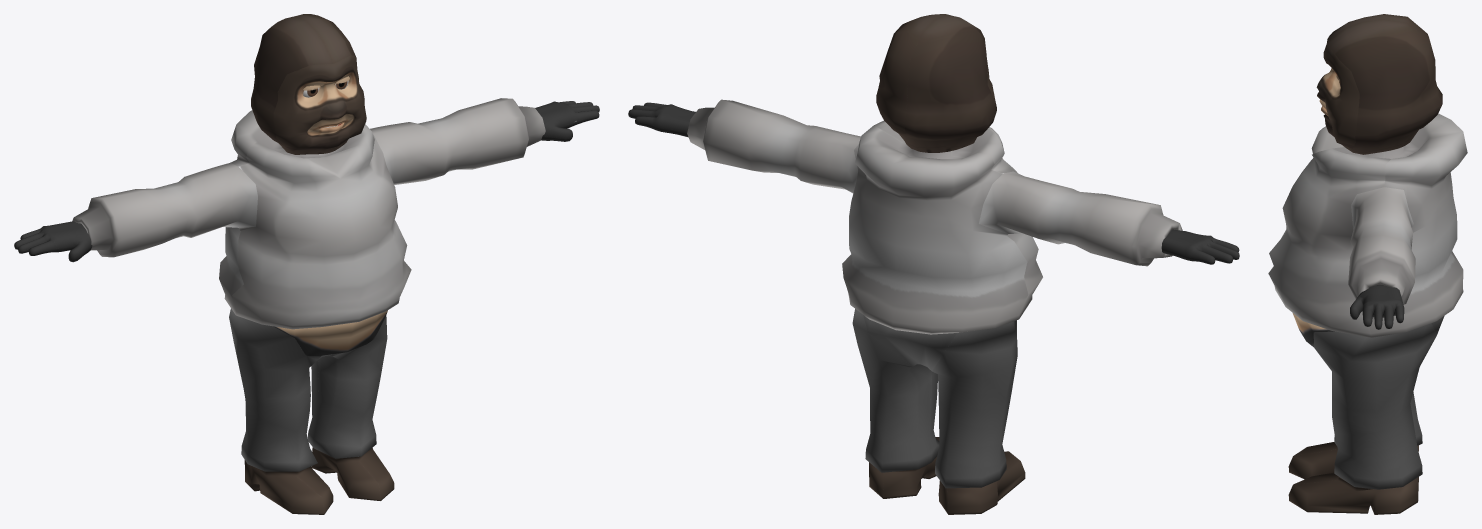
The model's file is looter.glb.
3 renders of one model, left to right at view 1: azimuth 30°, elevation 25°; view 2: azimuth 150°, elevation 25°; view 3: azimuth 270°, elevation 25°, orthographic. The views are drawn at different scales.
Visible parts, largest first — view 1: Cylinder, Circle; view 2: Cylinder, Circle; view 3: Cylinder, Circle.
Part boxes in pixels (bbox=[...]): Cylinder: bbox=[14, 98, 599, 514]; Circle: bbox=[251, 14, 366, 154]; Cylinder: bbox=[628, 99, 1239, 514]; Circle: bbox=[876, 14, 996, 152]; Cylinder: bbox=[1268, 113, 1467, 514]; Circle: bbox=[1316, 14, 1442, 154].
Size of the model in its own units: 6.51 by 4.86 by 1.88.
2 materials, 2 textured.
